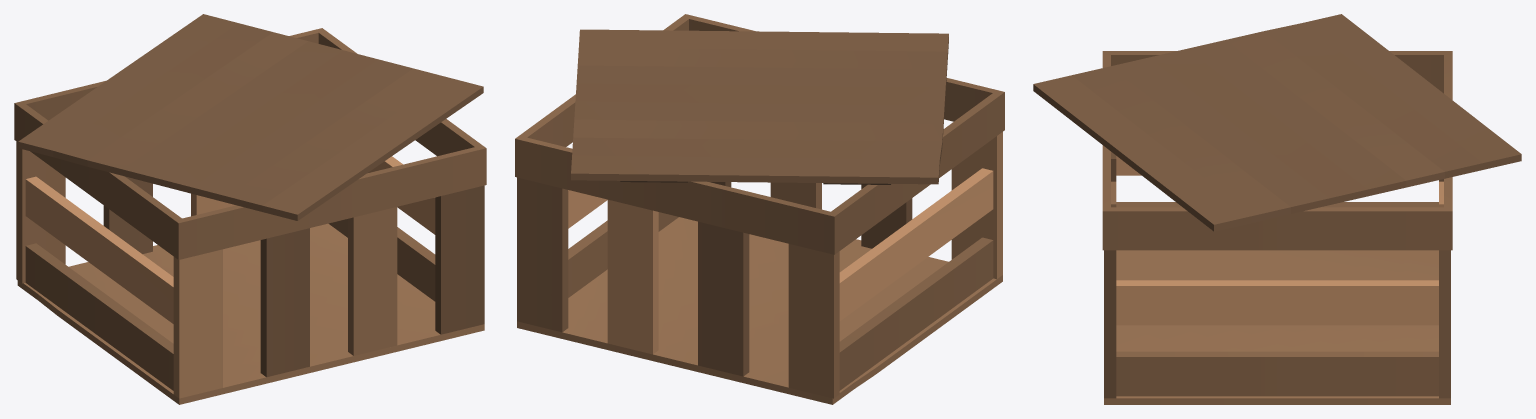
Rendered from Med Mid Crate Open Lid.fbx.
The picture shows the model from 3 angles, left to right: view 1: azimuth 30°, elevation 25°; view 2: azimuth 150°, elevation 25°; view 3: azimuth 270°, elevation 25°; orthographic projection. The views are drawn at different scales.
Parts seen in each view (by area): view 1: Med Mid Crate Open Lid; view 2: Med Mid Crate Open Lid; view 3: Med Mid Crate Open Lid.
Part boxes in pixels (box(x1,y1,x2,y2)): Med Mid Crate Open Lid: box(14, 14, 486, 404); Med Mid Crate Open Lid: box(515, 14, 1004, 404); Med Mid Crate Open Lid: box(1033, 14, 1521, 404).
Bounding box in the file's own units: 125 × 268 × 273.
Materials: 1 (1 with a texture image).
